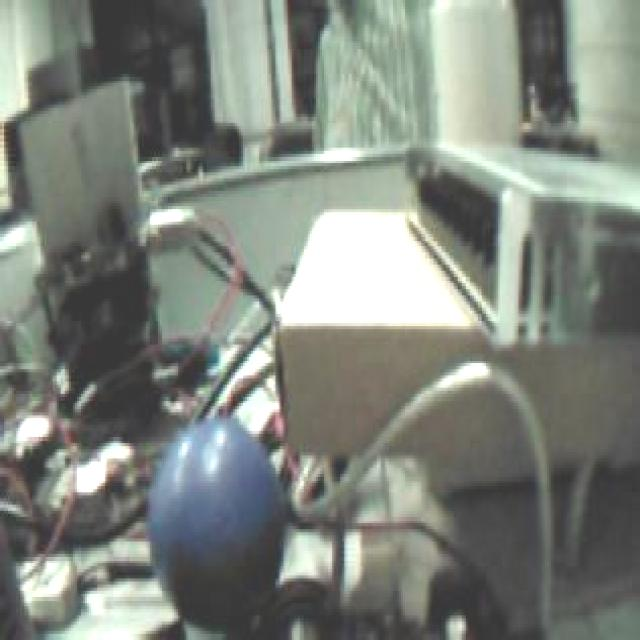BallPurple: (148, 419, 284, 628)
